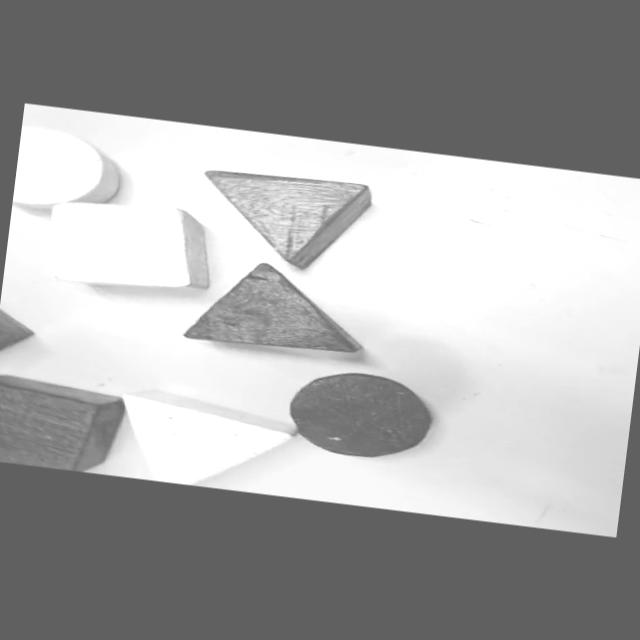bcircle: (290, 373, 430, 457)
bcube: (0, 377, 124, 471)
btriangle: (185, 263, 360, 352)
rtriangle: (205, 170, 367, 268)
ycircle: (13, 125, 119, 208)
ycube: (50, 202, 208, 288)
ytriangle: (123, 392, 295, 485)
